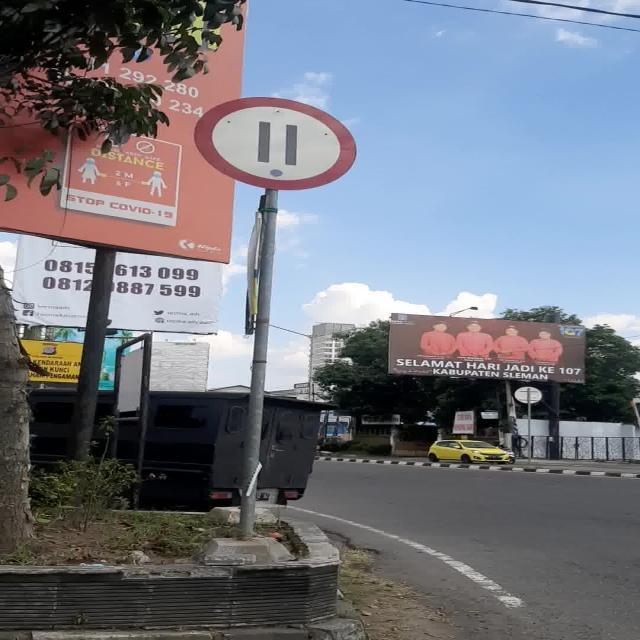Larangan Muatan - 10 ton: (194, 97, 357, 190)
